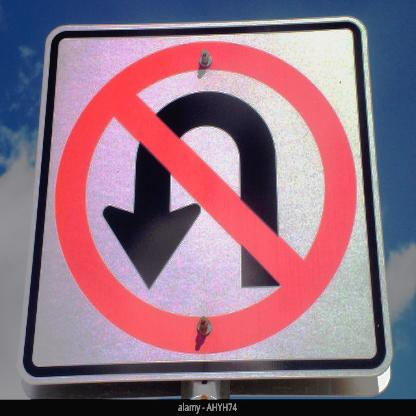No U-turn: (54, 29, 367, 366)
